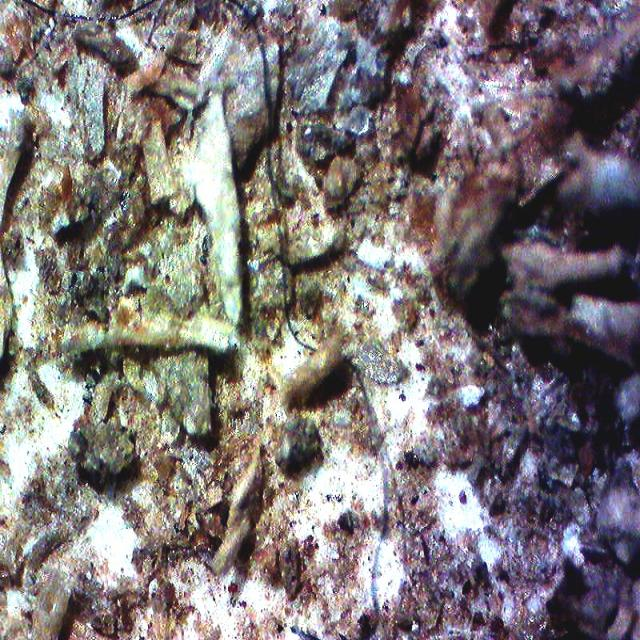microplastic: (226, 0, 318, 353), (21, 0, 160, 23)
